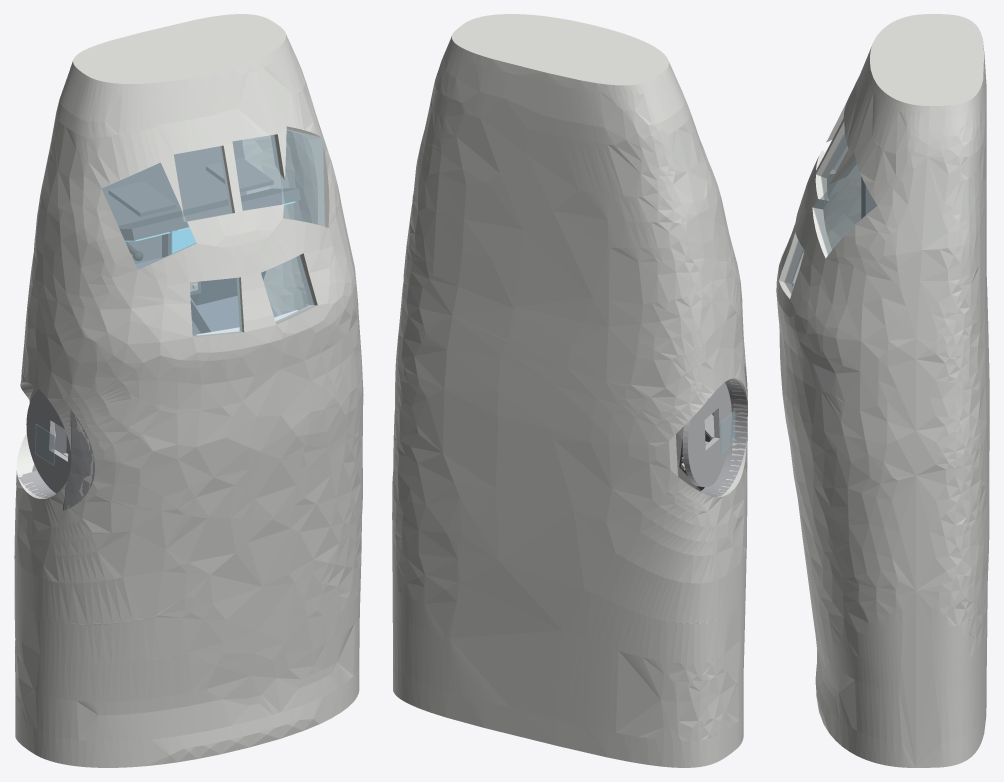
File: cockpit02_spaceplane_flight_deck_interior.glb
3 renders of one model, left to right at view 1: azimuth 30°, elevation 25°; view 2: azimuth 150°, elevation 25°; view 3: azimuth 270°, elevation 25°, orthographic. The views are drawn at different scales.
Visible parts, largest first — view 1: pressure_vessel, window_glass_inner, flight_deck_floor_inner, hatch_door_1, main_panel, seat_2, hatch_tunnel_1, rudder_pedals_1, rudder_pedals_2; view 2: pressure_vessel, hatch_door_1, hatch_tunnel_1; view 3: pressure_vessel, window_glass_inner.
Part boxes in pixels (x1=…): pressure_vessel: x1=14, y1=14, x2=363, y2=767; window_glass_inner: x1=35, y1=129, x2=324, y2=465; flight_deck_floor_inner: x1=54, y1=140, x2=246, y2=454; hatch_door_1: x1=26, y1=389, x2=71, y2=493; main_panel: x1=118, y1=188, x2=300, y2=240; seat_2: x1=190, y1=271, x2=277, y2=333; hatch_tunnel_1: x1=18, y1=382, x2=95, y2=510; rudder_pedals_1: x1=108, y1=181, x2=176, y2=216; rudder_pedals_2: x1=206, y1=157, x2=273, y2=192; pressure_vessel: x1=392, y1=14, x2=747, y2=767; hatch_door_1: x1=682, y1=382, x2=731, y2=487; hatch_tunnel_1: x1=700, y1=365, x2=747, y2=496; pressure_vessel: x1=776, y1=14, x2=989, y2=767; window_glass_inner: x1=784, y1=132, x2=876, y2=293.
Size of the model in its own units: 2.49 by 4.89 by 1.49.
